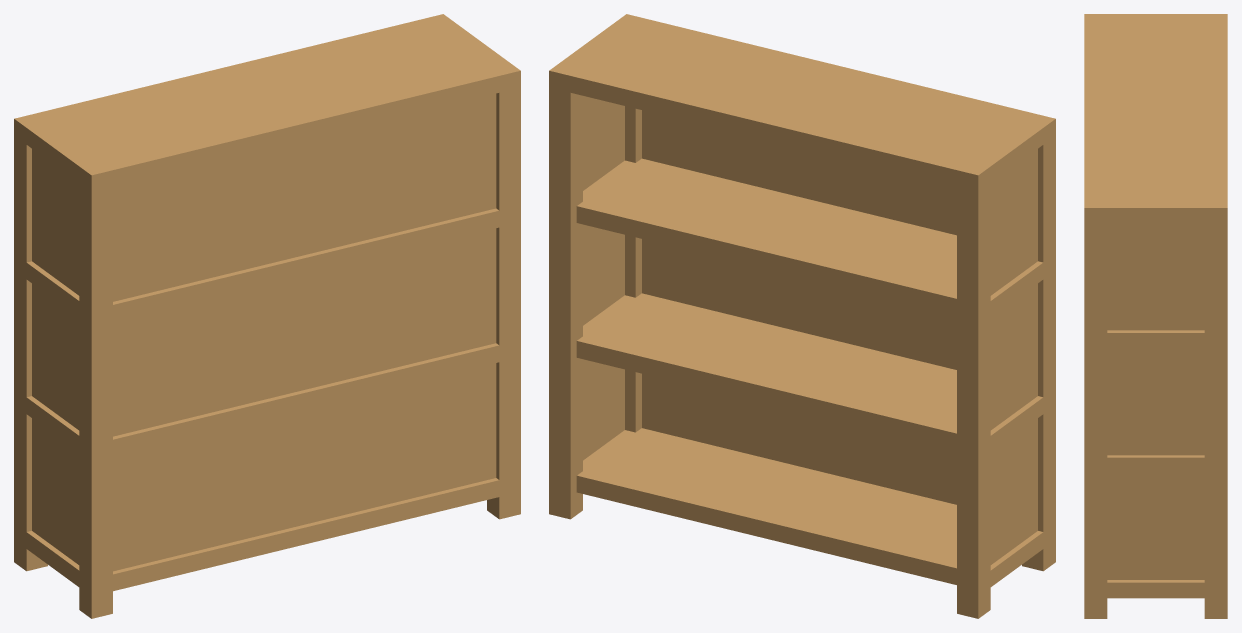
Rendered from bookcaseClosedWide.glb.
The picture shows the model from 3 angles, left to right: view 1: azimuth 30°, elevation 25°; view 2: azimuth 150°, elevation 25°; view 3: azimuth 270°, elevation 25°; orthographic projection. The views are drawn at different scales.
Bounding box in the file's own units: 8 × 7.9 × 2.5.
